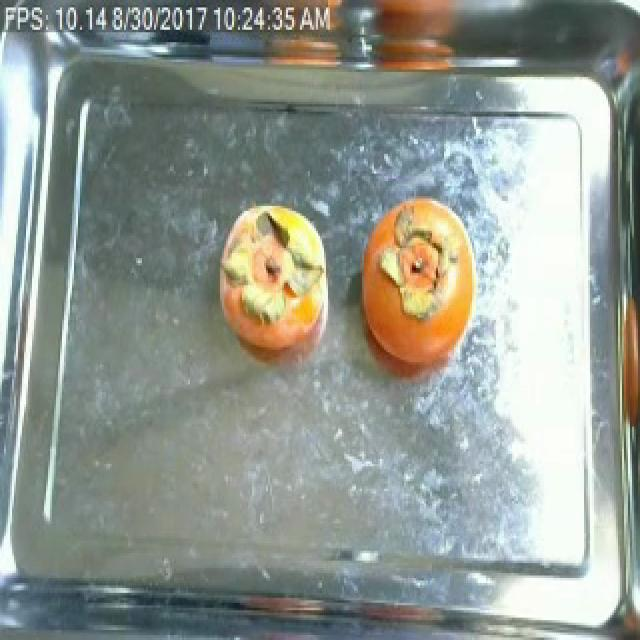Fruit: (206, 194, 336, 362), (366, 183, 486, 344)
